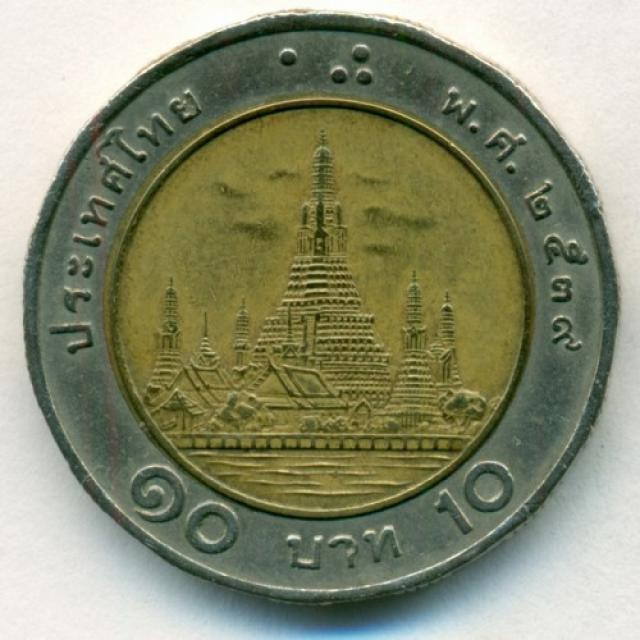10 Bath: (20, 9, 628, 621)
